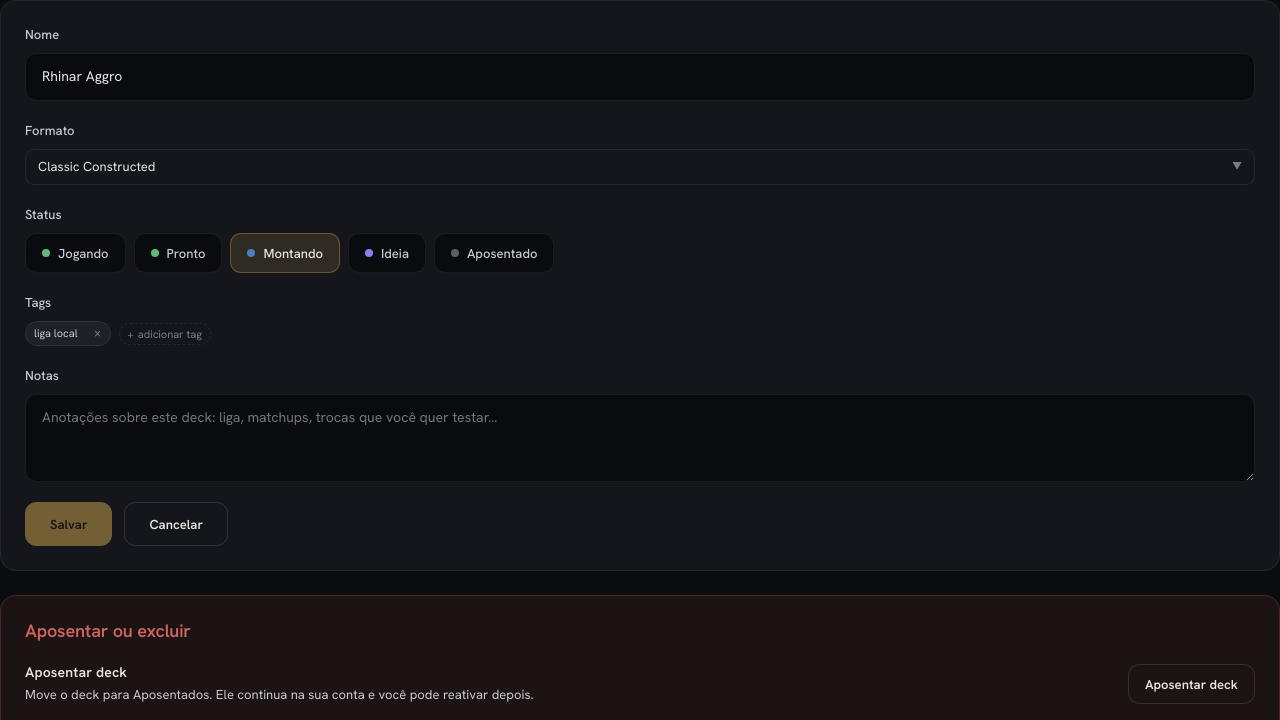
Test: DeckEditForm: leaving with unsaved changes › keeps editing when the user chooses Keep editing
Replace the text in the field with test id "deck-edit-name" with "Other". click: point(640, 77)
box: [25, 53, 1255, 101]
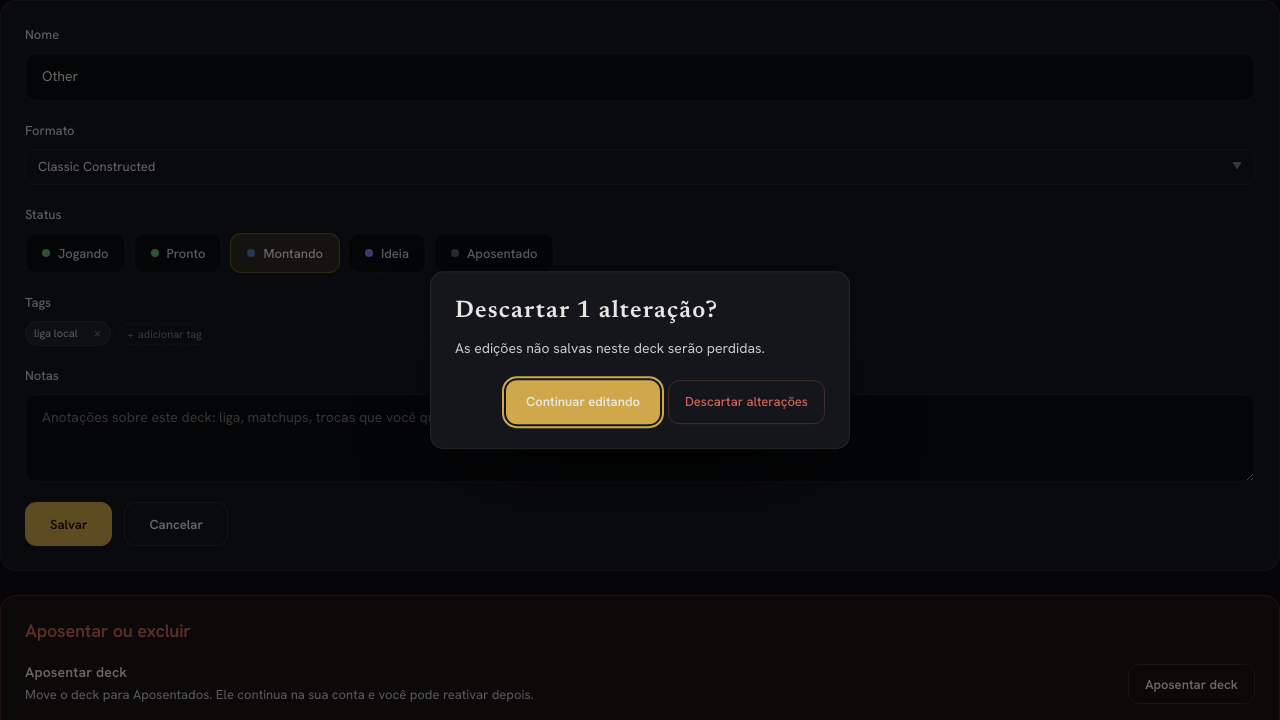
Click the button with test id "discard-confirm-keep-btn". click: point(583, 402)
box: [506, 380, 660, 424]
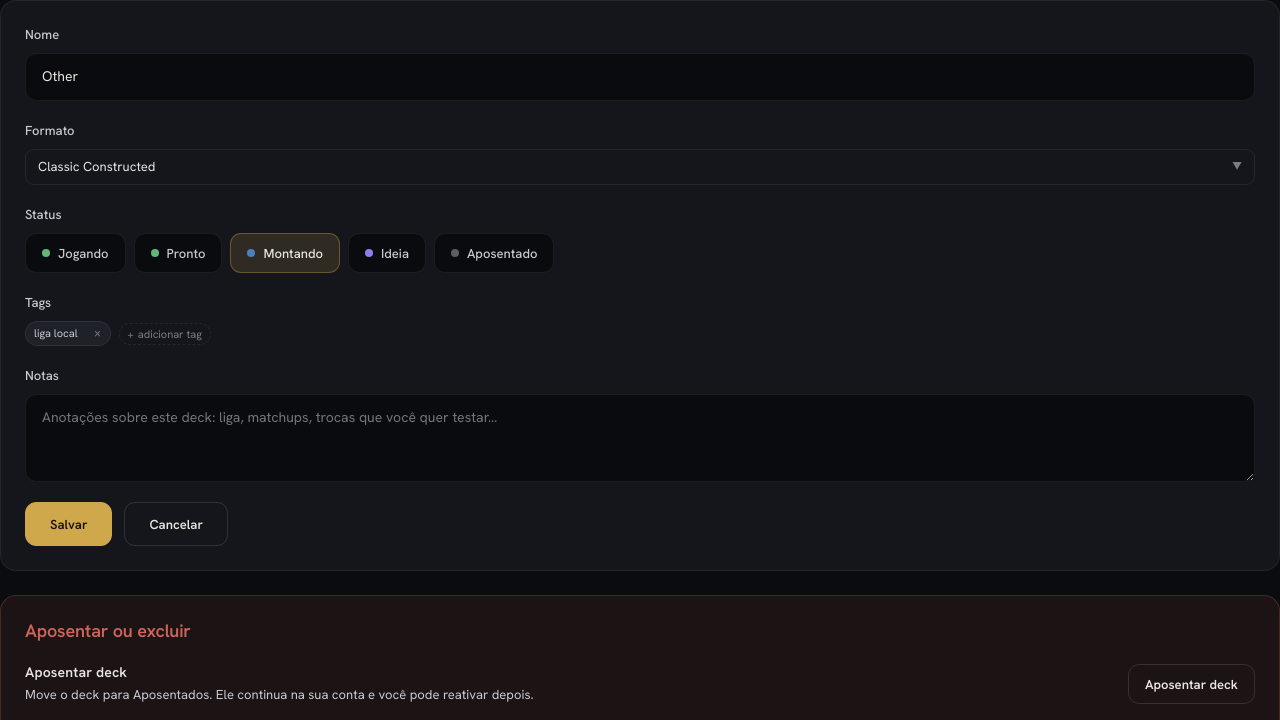
Expected: the dialog is gone
